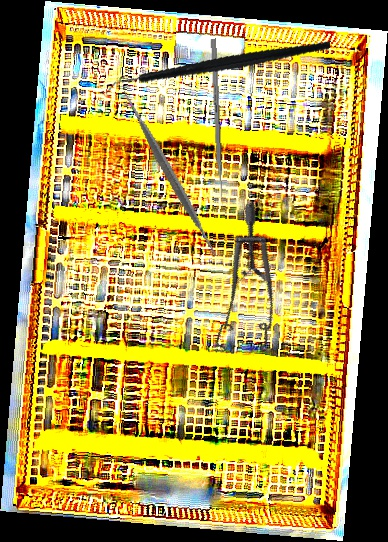Chopper: (105, 3, 331, 136)
Pusher: (210, 38, 225, 210)
Spatula Surgical: (76, 80, 264, 267)
Speculum: (163, 199, 316, 376)
